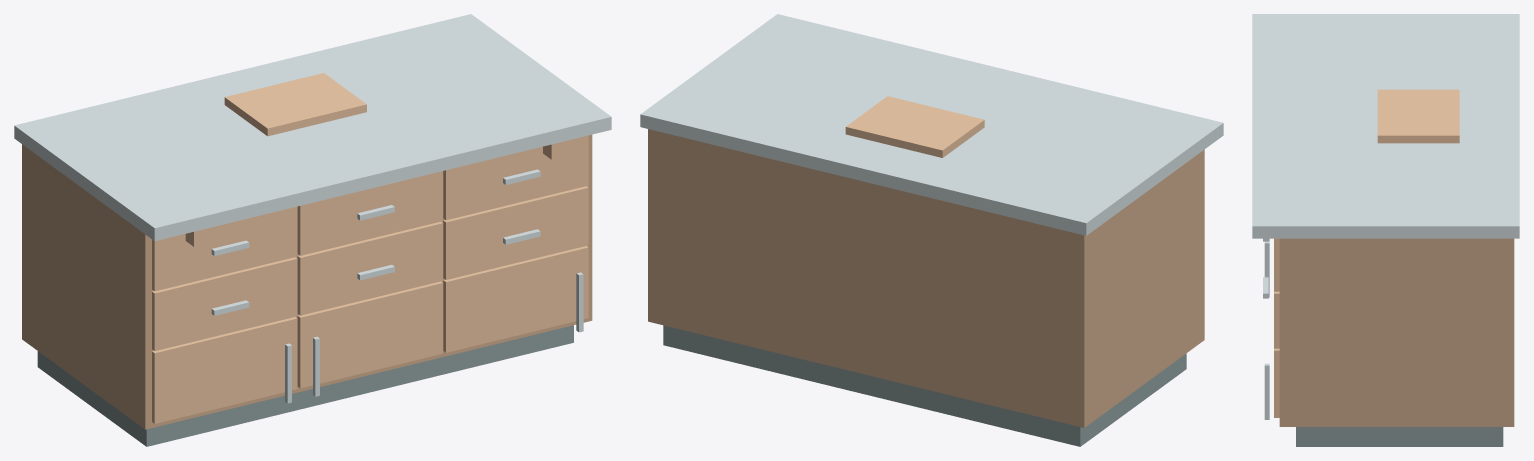
The model's file is kitchenIsland.glb.
The picture shows the model from 3 angles, left to right: view 1: azimuth 30°, elevation 25°; view 2: azimuth 150°, elevation 25°; view 3: azimuth 270°, elevation 25°; orthographic projection. The views are drawn at different scales.
Visible parts, largest first — view 1: kitchenIsland; view 2: kitchenIsland; view 3: kitchenIsland.
Part boxes in pixels (left/top/right/bottom): kitchenIsland: left=14, top=14, right=611, bottom=446; kitchenIsland: left=640, top=14, right=1223, bottom=446; kitchenIsland: left=1252, top=14, right=1519, bottom=446.
Bounding box in the file's own units: 0.92 × 0.475 × 0.49.
